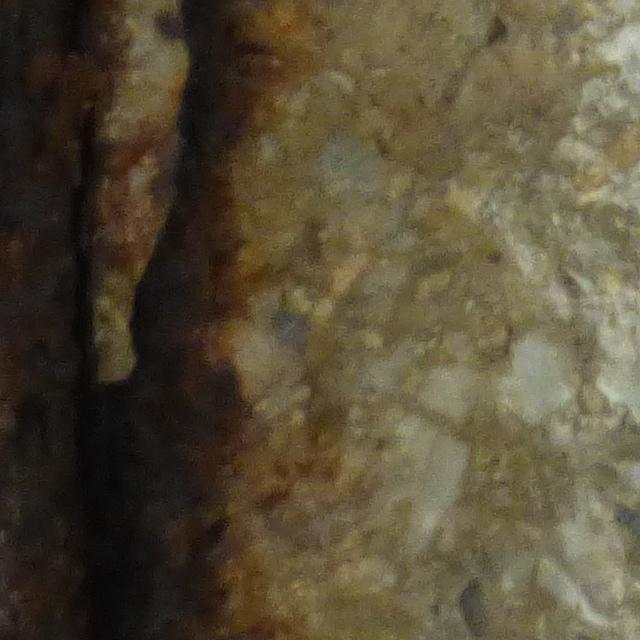Rust: (3, 1, 246, 640)
